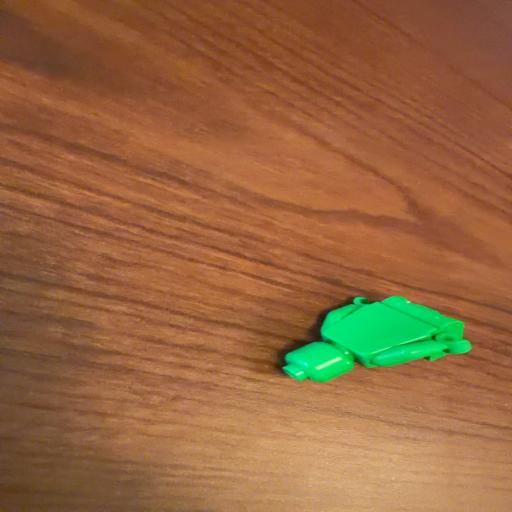UnoQ-minifig-detector: (284, 296, 470, 381)
